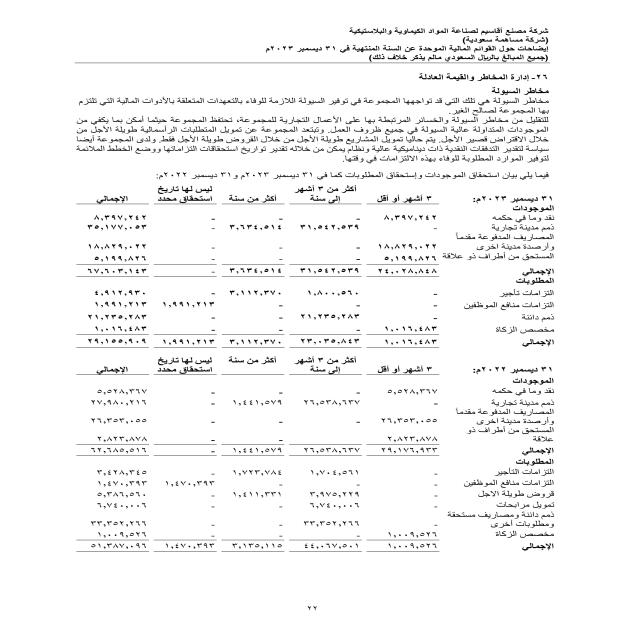notes: (416, 44, 552, 52)
table: (32, 181, 572, 568)
